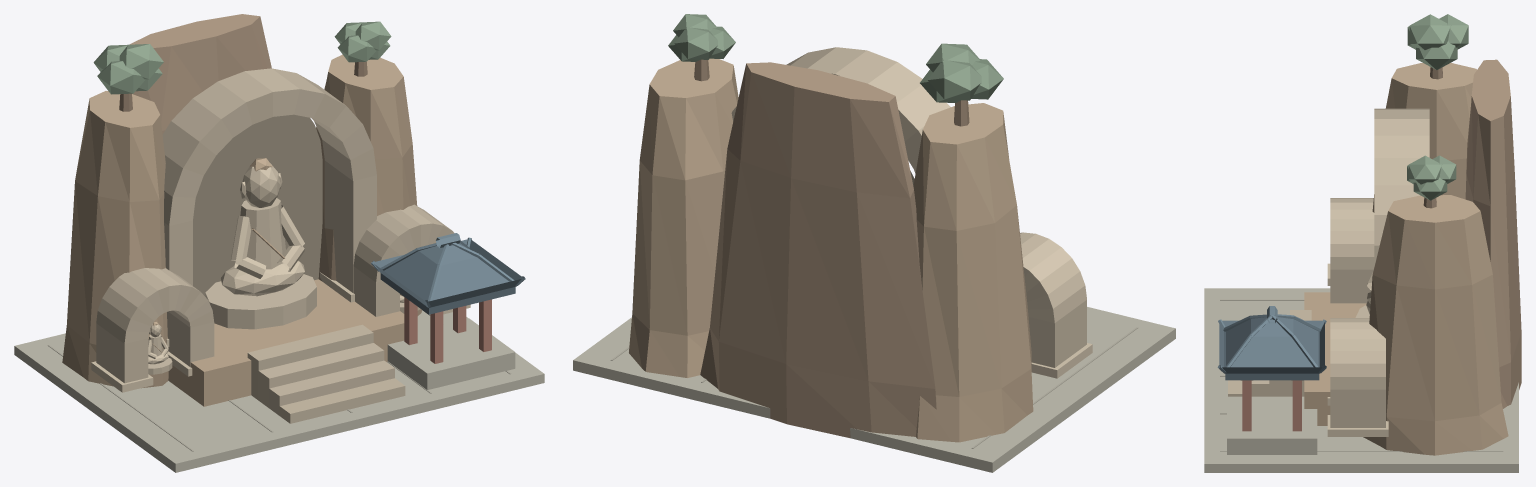
The picture shows the model from 3 angles, left to right: view 1: azimuth 30°, elevation 25°; view 2: azimuth 150°, elevation 25°; view 3: azimuth 270°, elevation 25°; orthographic projection. The views are drawn at different scales.
Visible parts, largest first — view 1: S31; view 2: S31; view 3: S31.
Boxes of the visible parts, x1,y1,x2,y2 form: S31: [14, 14, 544, 472]; S31: [573, 14, 1175, 472]; S31: [1204, 14, 1521, 472].
Bounding box in the file's own units: 4.65 × 3.88 × 3.55.
